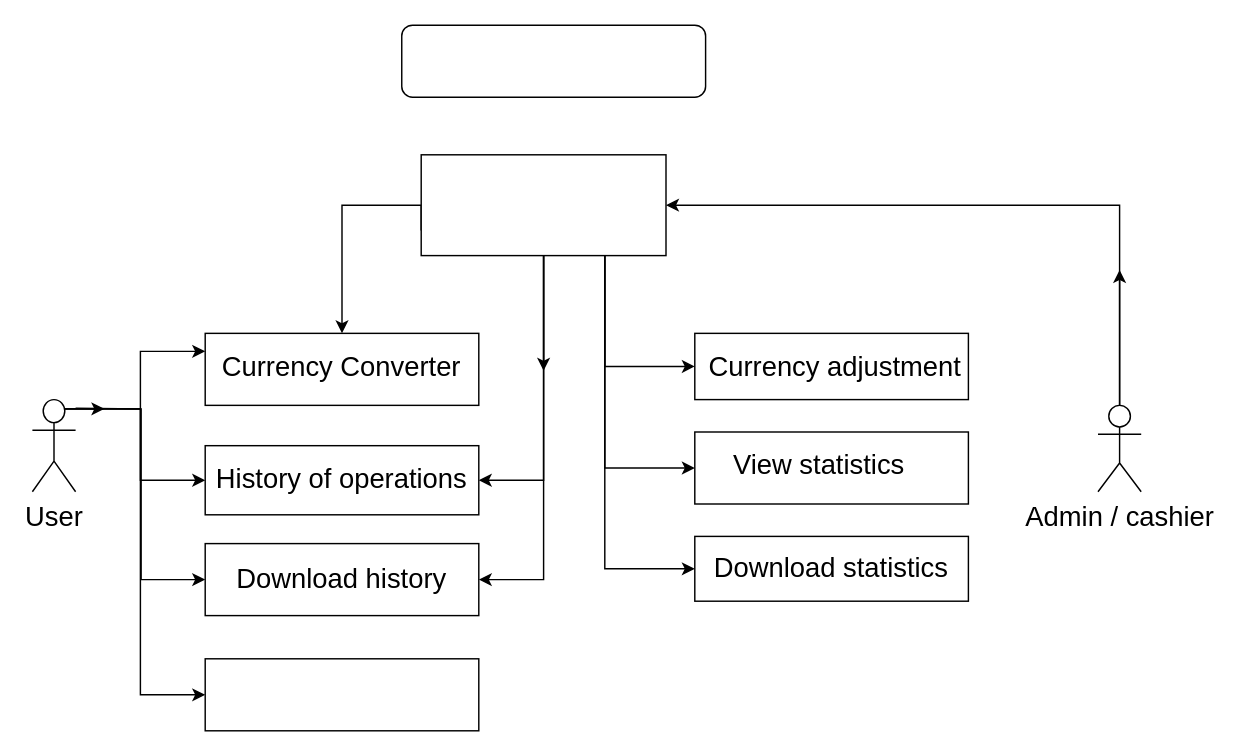
This 1238x756 diagram has some shape labels left out. The centre of each missing label's shape, as x and y in pixels:
"Authentication" belongs at pixel 543 204.
"exchange office" belongs at pixel 553 60.
"Issuance of a receipt" belongs at pixel 341 694.
